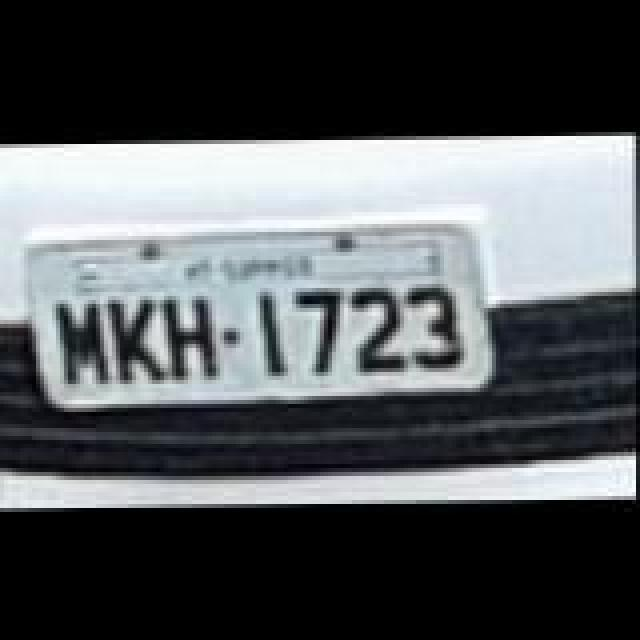1: (258, 288, 290, 376)
2: (346, 282, 410, 370)
3: (400, 282, 468, 370)
7: (294, 284, 350, 372)
H: (162, 294, 226, 382)
K: (106, 296, 170, 384)
M: (54, 294, 118, 386)
